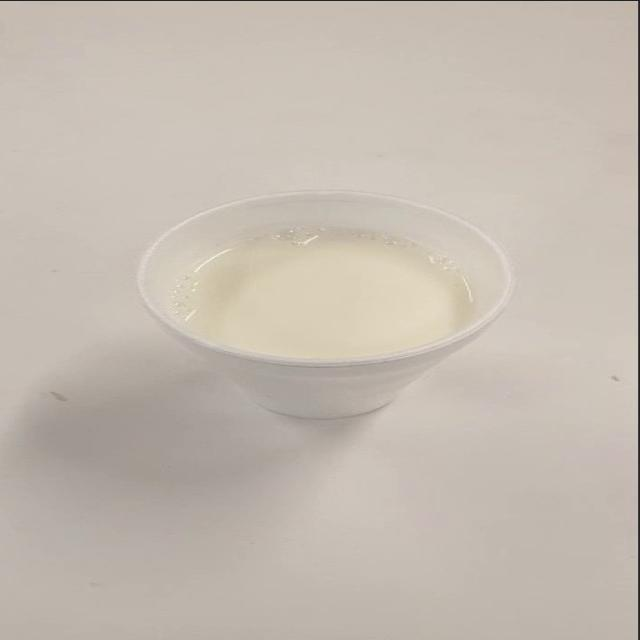milk: (111, 172, 512, 446)
